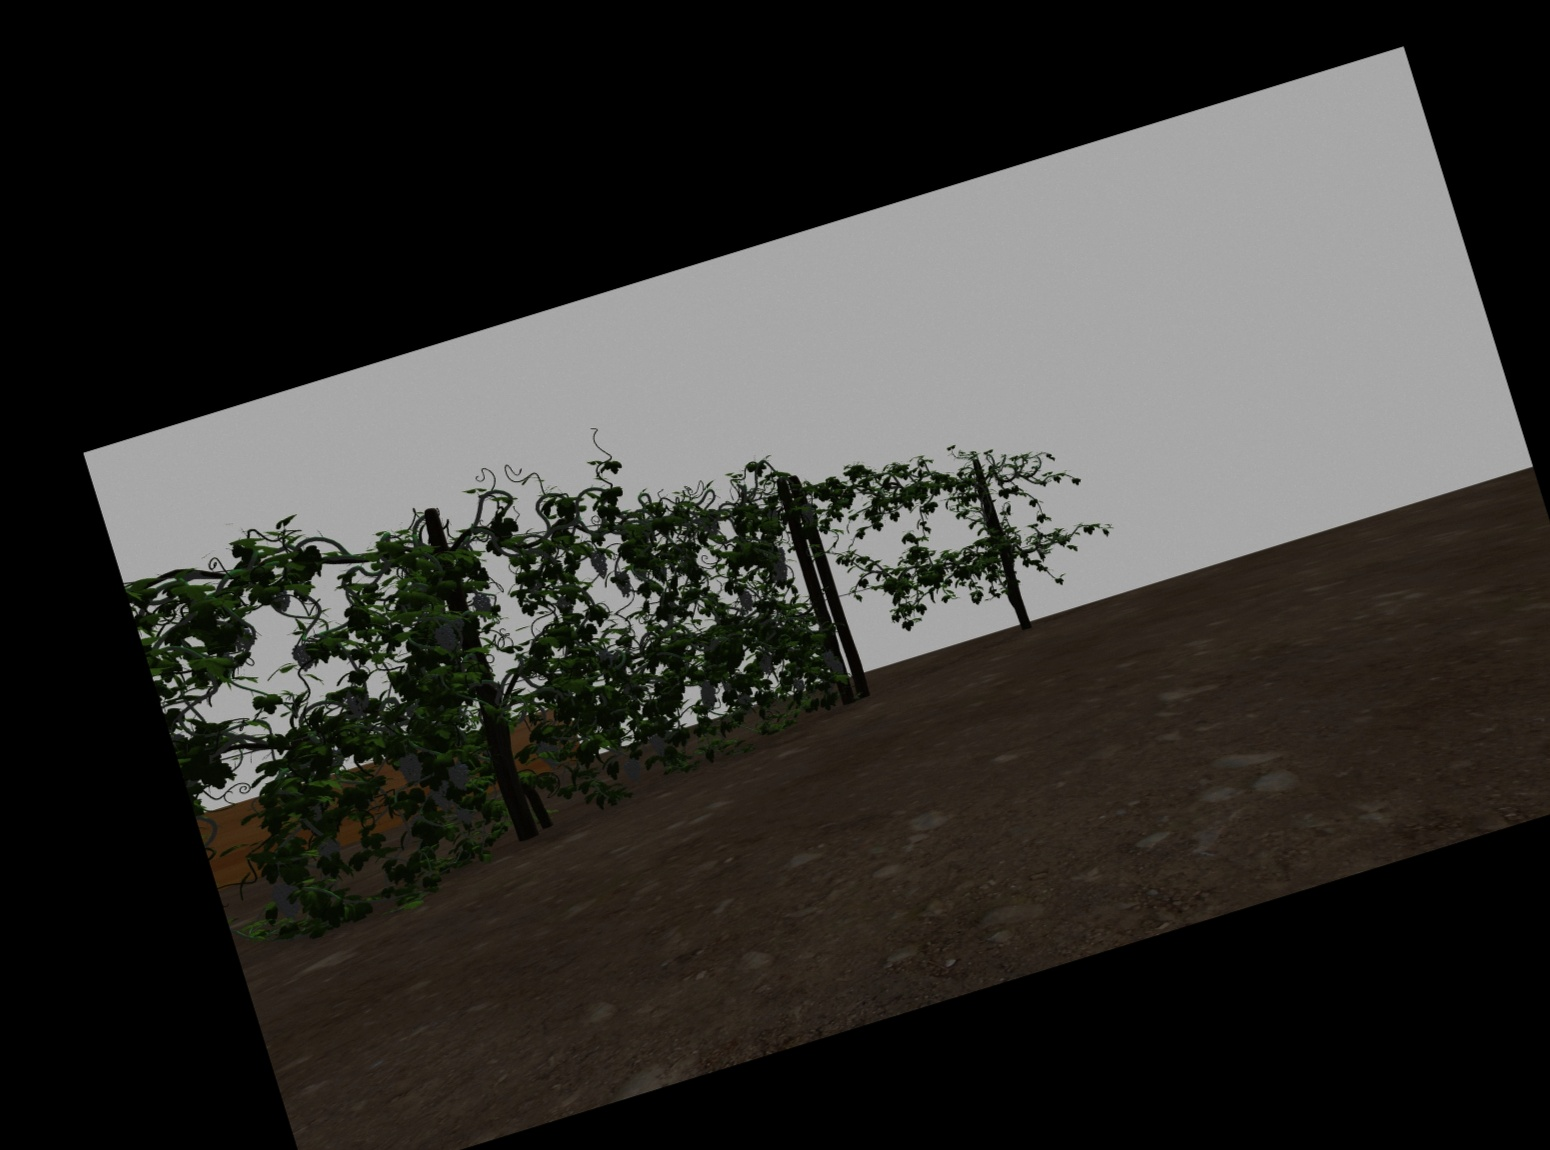grape: (273, 881, 300, 922), (346, 687, 371, 719), (431, 782, 453, 814), (536, 738, 559, 768), (400, 755, 422, 786), (449, 761, 470, 792), (292, 641, 313, 672), (772, 548, 790, 582), (435, 625, 455, 654), (455, 798, 474, 827), (474, 593, 492, 622), (699, 680, 716, 710), (590, 550, 606, 579), (649, 730, 666, 757), (615, 570, 631, 599), (317, 838, 339, 858), (625, 757, 642, 782), (801, 503, 815, 525), (759, 654, 773, 675), (739, 589, 753, 612), (822, 649, 835, 667), (830, 660, 843, 676), (793, 676, 805, 695), (737, 691, 750, 707)
